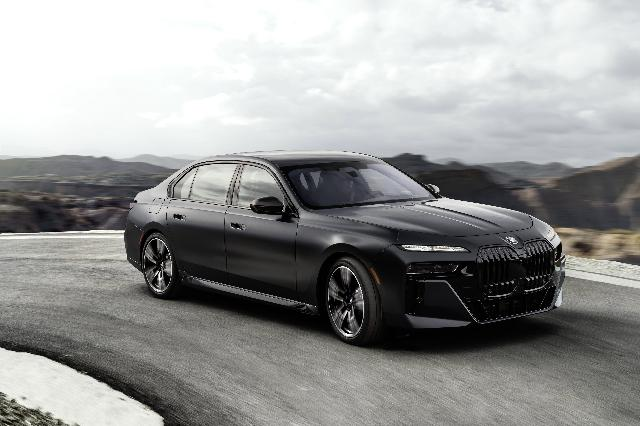bmw: (124, 148, 566, 348)
